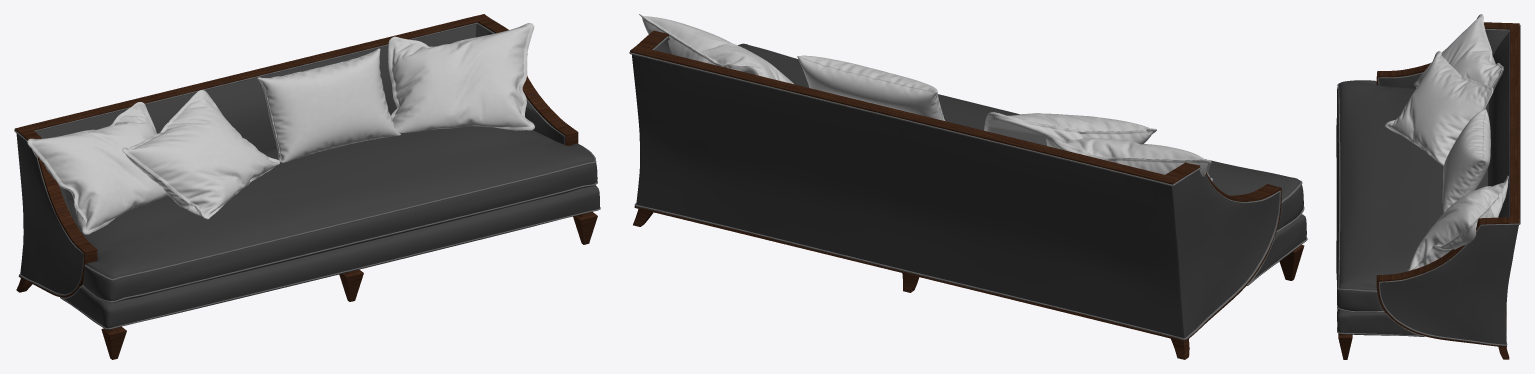
The model's file is sofa02.glb.
The picture shows the model from 3 angles, left to right: view 1: azimuth 30°, elevation 25°; view 2: azimuth 150°, elevation 25°; view 3: azimuth 270°, elevation 25°; orthographic projection. The views are drawn at different scales.
Parts seen in each view (by area): view 1: liv_16_parts_sofa_chair; view 2: liv_16_parts_sofa_chair; view 3: liv_16_parts_sofa_chair.
Boxes of the visible parts, left/top/right/bottom form: liv_16_parts_sofa_chair: left=14, top=14, right=600, bottom=359; liv_16_parts_sofa_chair: left=629, top=14, right=1307, bottom=359; liv_16_parts_sofa_chair: left=1336, top=14, right=1520, bottom=359.
Size of the model in its own units: 0.242 by 0.0769 by 0.0882.
6 materials, 5 textured.
